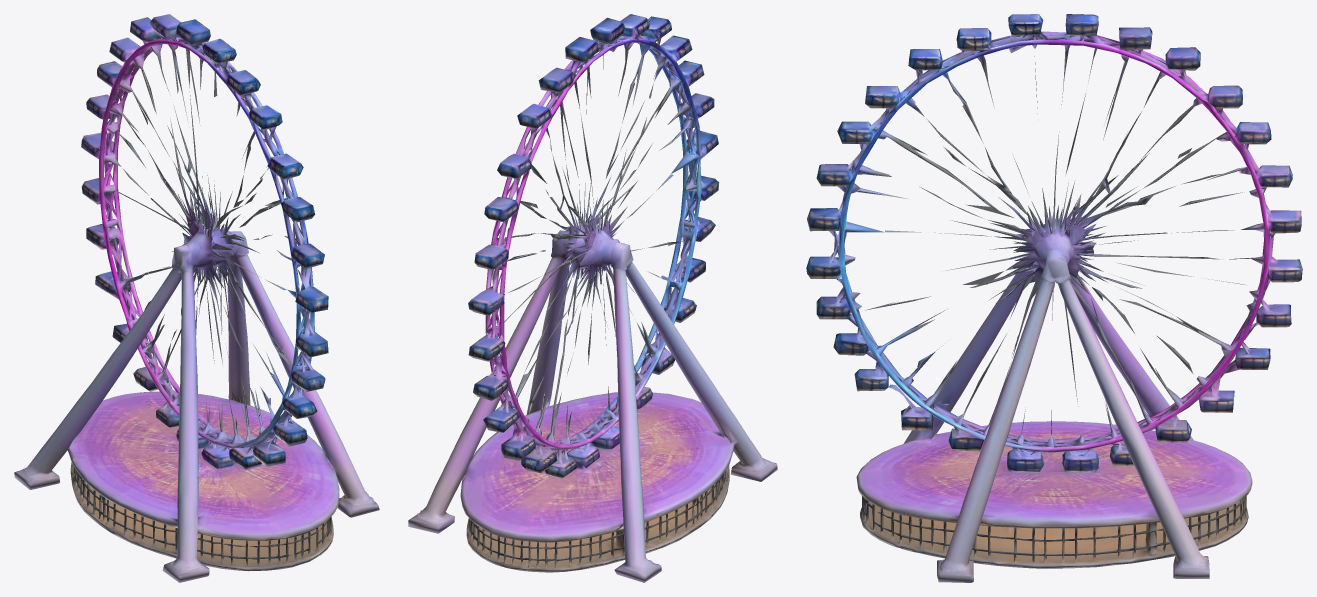
The model's file is big_wheel.glb.
3 views of the same model, side by side, from view 1: azimuth 30°, elevation 25°; view 2: azimuth 150°, elevation 25°; view 3: azimuth 270°, elevation 25° (orthographic). The views are drawn at different scales.
Visible parts, largest first — view 1: tripo_node_963c348b-bea4-46fa-addb-e752fec5c841; view 2: tripo_node_963c348b-bea4-46fa-addb-e752fec5c841; view 3: tripo_node_963c348b-bea4-46fa-addb-e752fec5c841.
Boxes of the visible parts, x1,y1,x2,y2 form: tripo_node_963c348b-bea4-46fa-addb-e752fec5c841: (14, 14, 379, 582); tripo_node_963c348b-bea4-46fa-addb-e752fec5c841: (408, 14, 777, 582); tripo_node_963c348b-bea4-46fa-addb-e752fec5c841: (806, 14, 1302, 582).
Size of the model in its own units: 0.5455 by 1 by 0.8962.
Materials: 1 (1 with a texture image).
